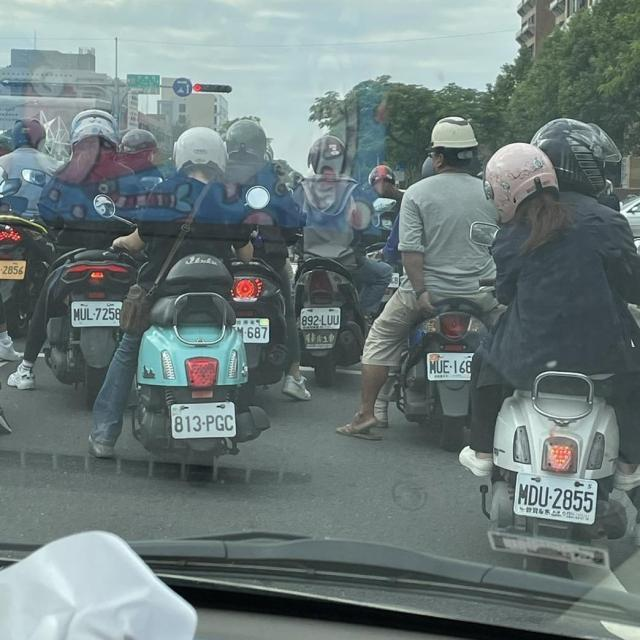W: (513, 471, 597, 525), (168, 401, 238, 439), (428, 352, 482, 383), (71, 300, 124, 327), (299, 307, 342, 331)
